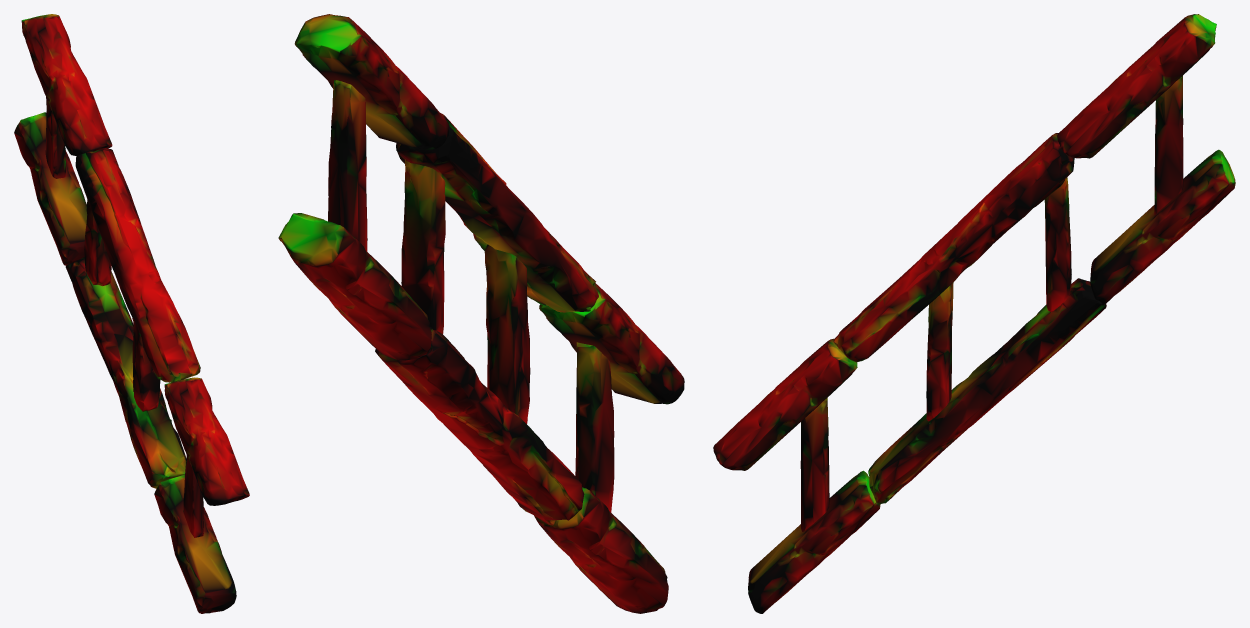
Rendered from SM_Stone_StairsRailings.fbx.
The picture shows the model from 3 angles, left to right: view 1: azimuth 30°, elevation 25°; view 2: azimuth 150°, elevation 25°; view 3: azimuth 270°, elevation 25°; orthographic projection. The views are drawn at different scales.
Parts seen in each view (by area): view 1: SM_Stone_StairsRailings_LOD0; view 2: SM_Stone_StairsRailings_LOD0; view 3: SM_Stone_StairsRailings_LOD0.
Boxes of the visible parts, x1=… form: SM_Stone_StairsRailings_LOD0: x1=14, y1=14, x2=249, y2=613; SM_Stone_StairsRailings_LOD0: x1=278, y1=14, x2=684, y2=613; SM_Stone_StairsRailings_LOD0: x1=713, y1=14, x2=1235, y2=613.
Bounding box in the file's own units: 37.68 × 327 × 409.
